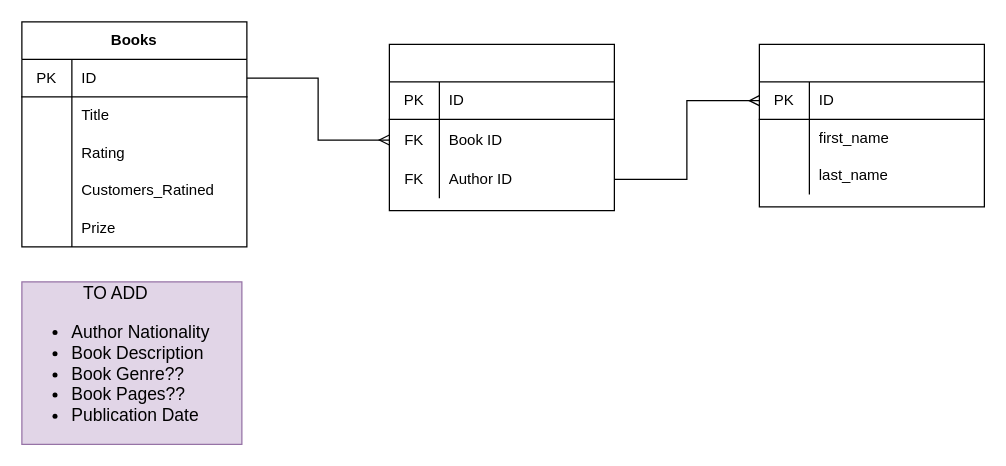
The diagram is 1006 pixels wide and 466 high, and some of its shapes have lost their labels. The shapes that lost their labels are listed below. From the top down, each one's box as (x1, y1, x2, y2) in pixels, then its label:
(388, 43, 614, 211): Book Authors
(758, 43, 984, 207): Authors
